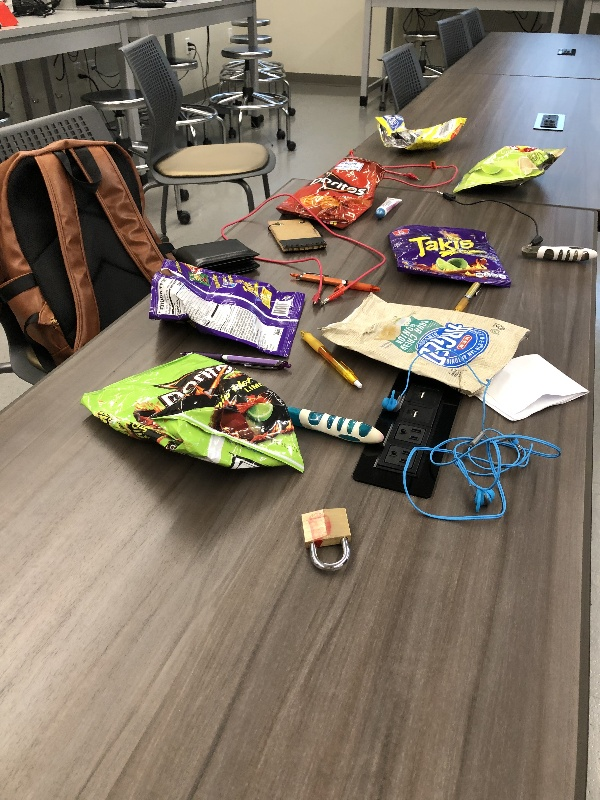bag: (72, 349, 310, 480), (311, 287, 534, 404), (144, 255, 309, 358), (386, 220, 519, 290), (273, 157, 391, 235), (449, 143, 567, 199), (373, 110, 470, 160)
